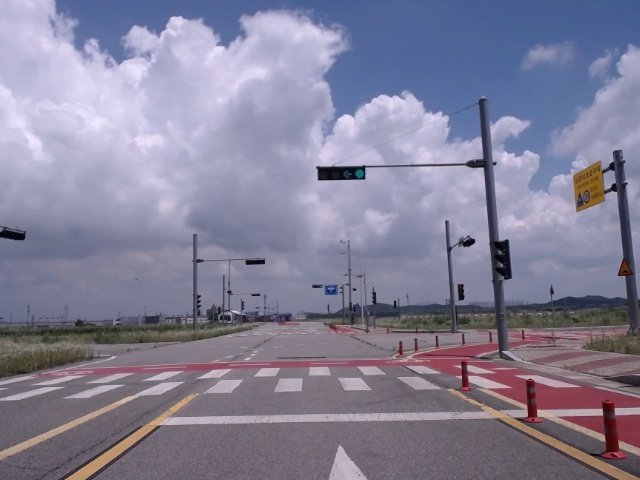all_green_4: (319, 168, 367, 179)
